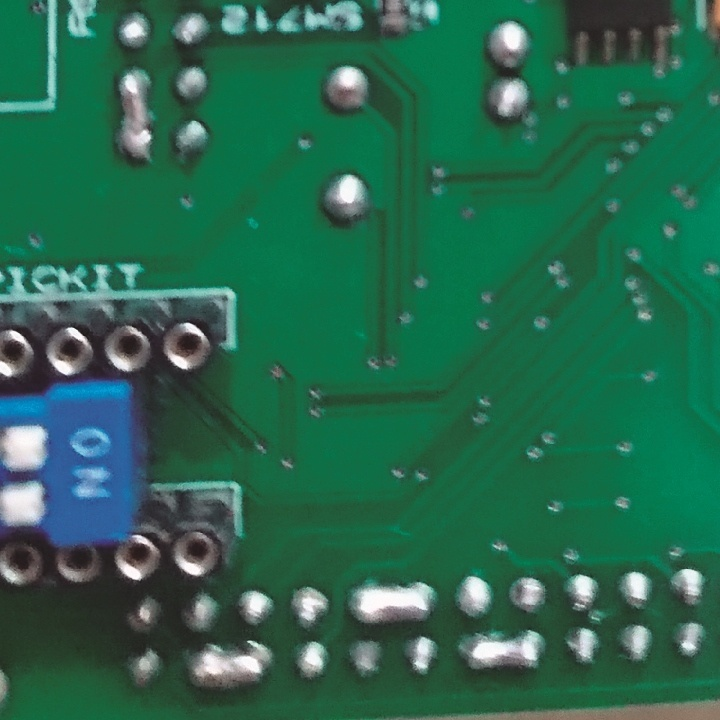F: (286, 585, 331, 634), (505, 572, 548, 616)
P: (344, 576, 442, 631), (108, 67, 156, 170), (182, 641, 277, 689), (461, 634, 548, 674)
